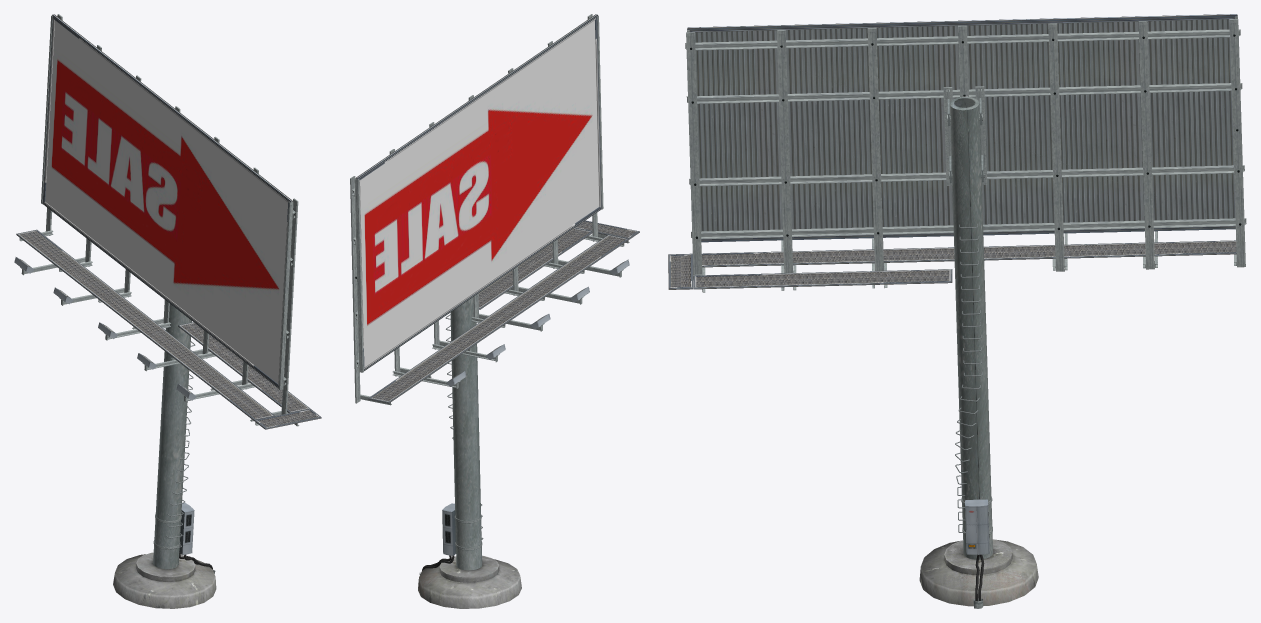
Rendered from DedicatedLevel.fbx.
3 views of the same model, side by side, from view 1: azimuth 30°, elevation 25°; view 2: azimuth 150°, elevation 25°; view 3: azimuth 270°, elevation 25° (orthographic). The views are drawn at different scales.
Visible parts, largest first — view 1: billboard_a_2012_Billboard_A_9; view 2: billboard_a_2012_Billboard_A_9; view 3: billboard_a_2012_Billboard_A_9.
Part boxes in pixels (x1,y1,x2,y2): billboard_a_2012_Billboard_A_9: [14, 14, 321, 608]; billboard_a_2012_Billboard_A_9: [350, 14, 639, 608]; billboard_a_2012_Billboard_A_9: [668, 14, 1246, 608].
Size of what is drawn, in the model's own units: 142 by 523 by 567.
